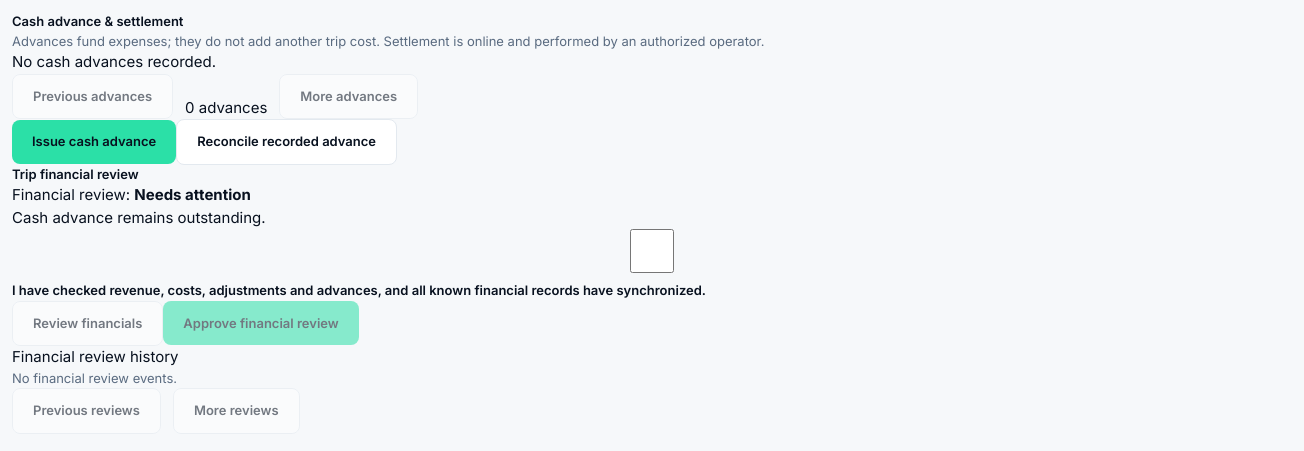
Test: cash settlement and explicit approval › requires a separate review confirmation and disables blocked approval
Expected: the button "Approve financial review" is disabled, [163,301,359,345]
What coordinates should you click on to do the following:
click the checkbox labelled "I have checked revenue"
I would click on:
 (652, 251)
Its box is [12,229,1292,273].
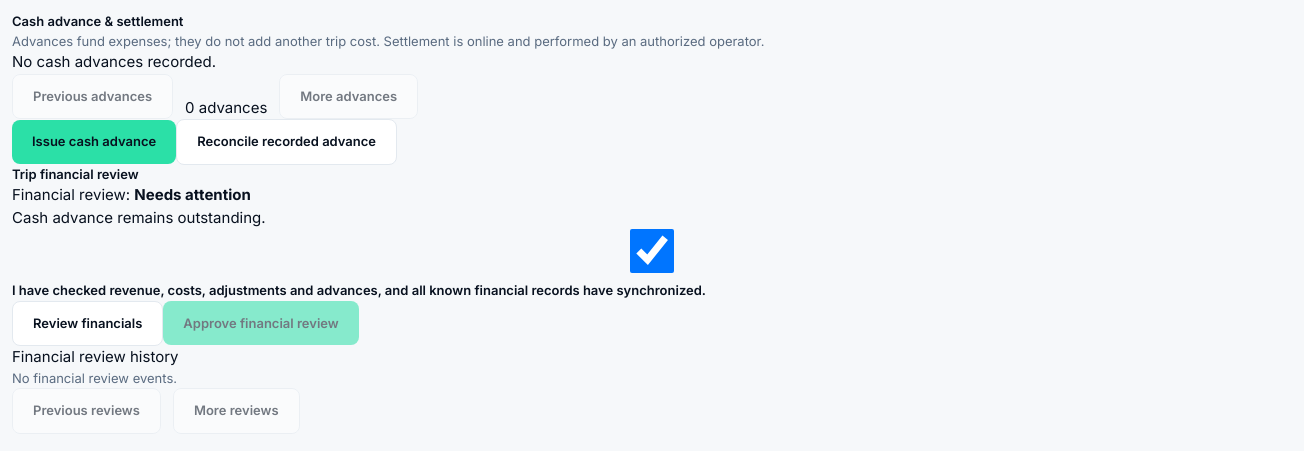
Expected: the button "Approve financial review" is disabled, [163,301,359,345]
Result: the button "Review financials" is enabled at [12,300,163,346]
